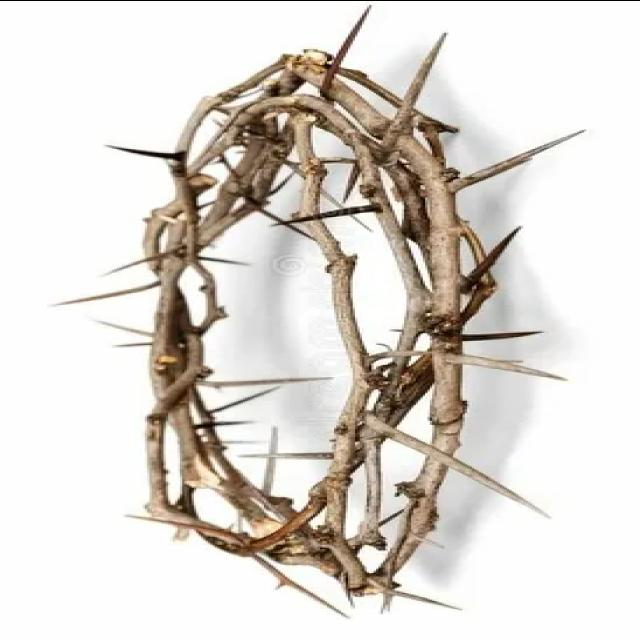crown: (95, 29, 529, 604)
